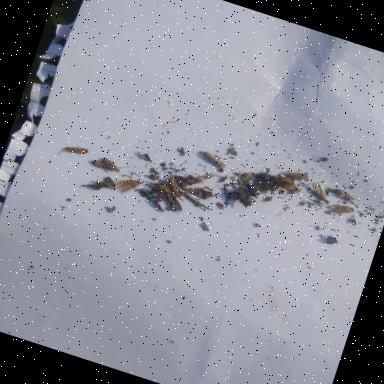pbw: (199, 148, 228, 170), (99, 155, 129, 176), (60, 138, 88, 159), (306, 178, 330, 201), (327, 200, 355, 219), (232, 166, 255, 188), (284, 166, 310, 184), (332, 185, 356, 204), (273, 178, 297, 196), (90, 156, 116, 172), (184, 182, 206, 198)
